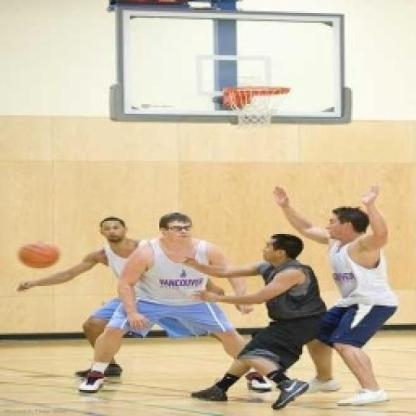basketball: (17, 237, 62, 271)
